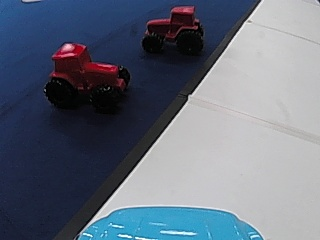tractor: (42, 41, 131, 111), (141, 5, 206, 55)
